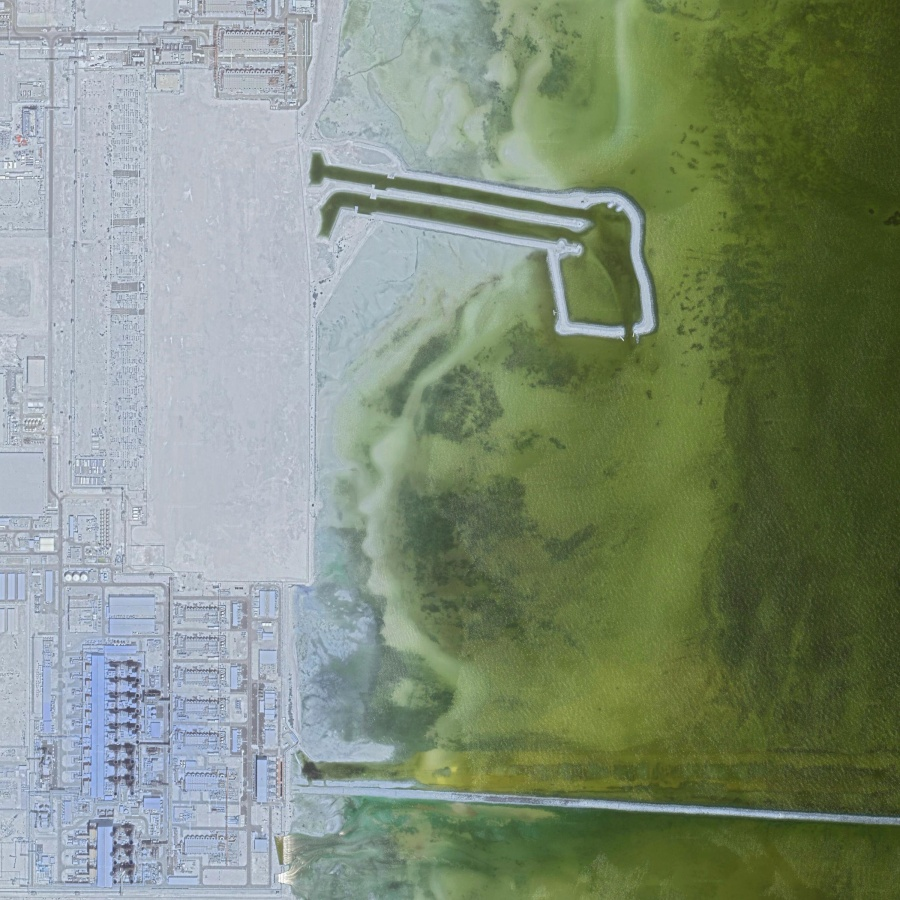PowerPlant: (52, 562, 314, 888)
